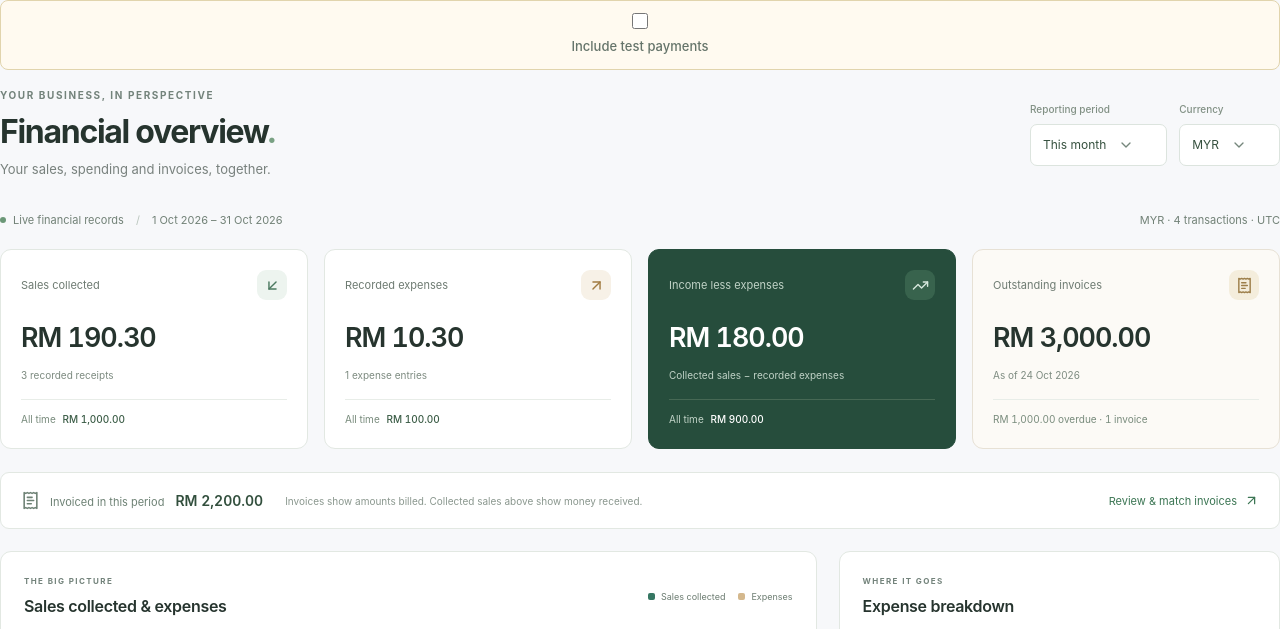
Test case: does not request a reversed custom date range
Check: the button "Sales collected" is shown, box [0,249,308,449]
Press ArrowDown in the dropdown named "Reporting period", box [1030,124,1167,166]
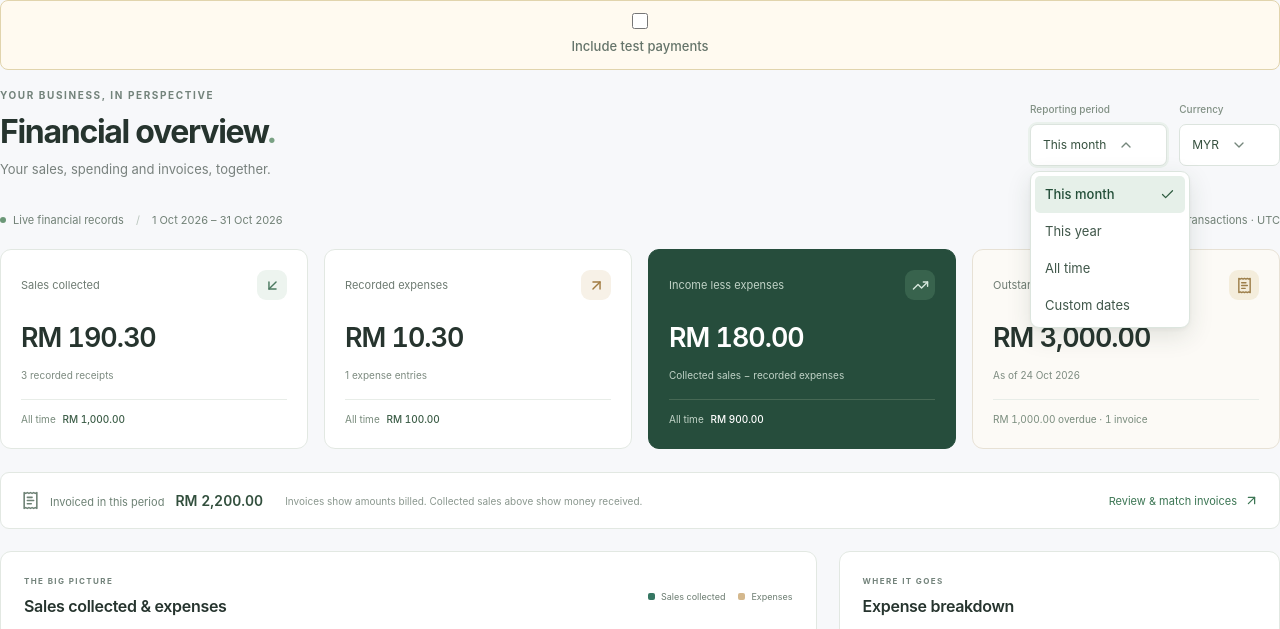
Press Enter in the option "Custom dates", box [1045,296,1130,312]
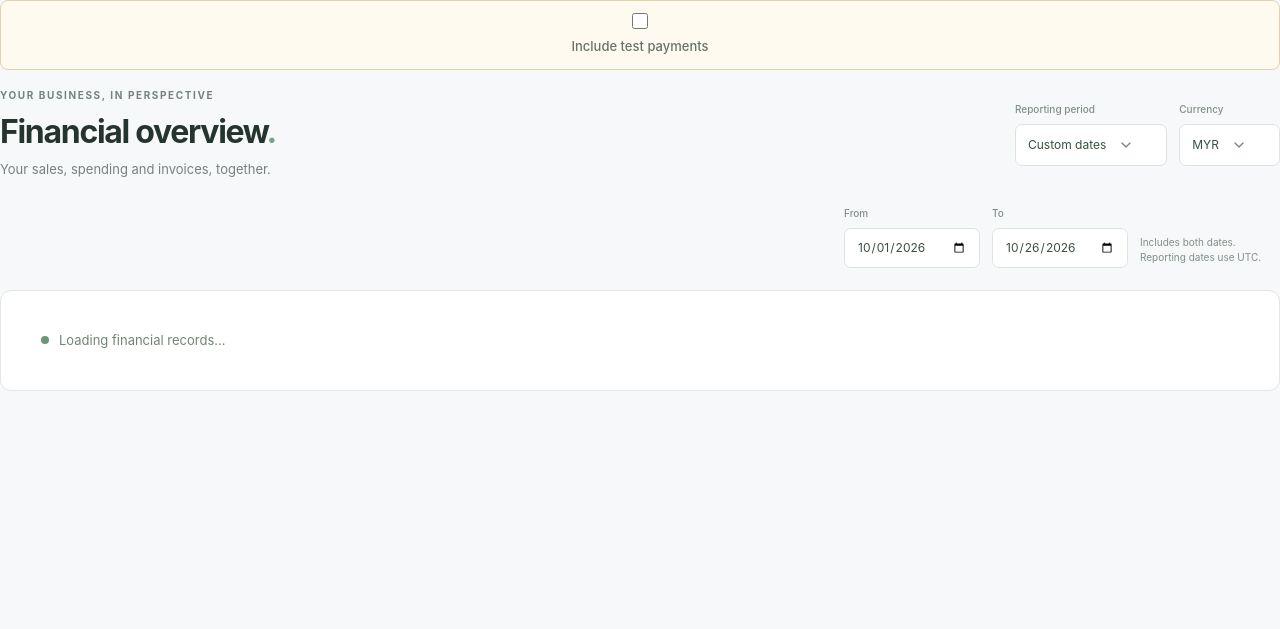
Type "2020-01-01" into the date field named "Reporting end date".
click(1060, 248); type("2020-01-01")  # box [992,228,1128,268]
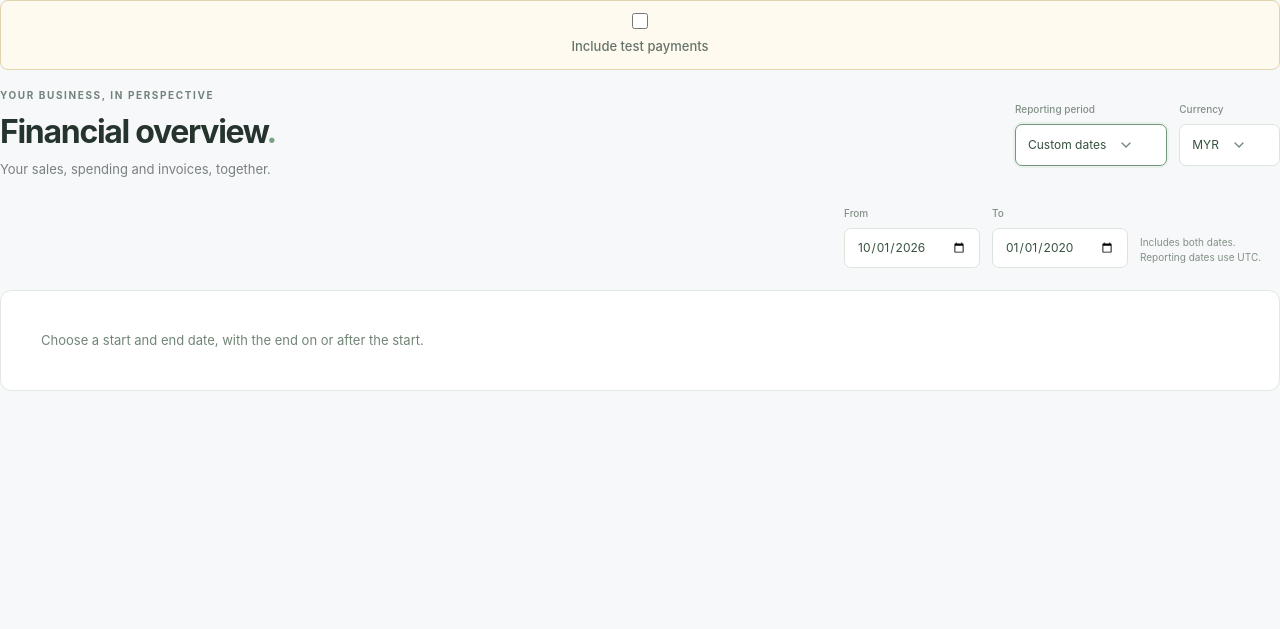
Check: the message "Choose a start and end date, with the end on or after the start." is shown, box [0,290,1279,391]
